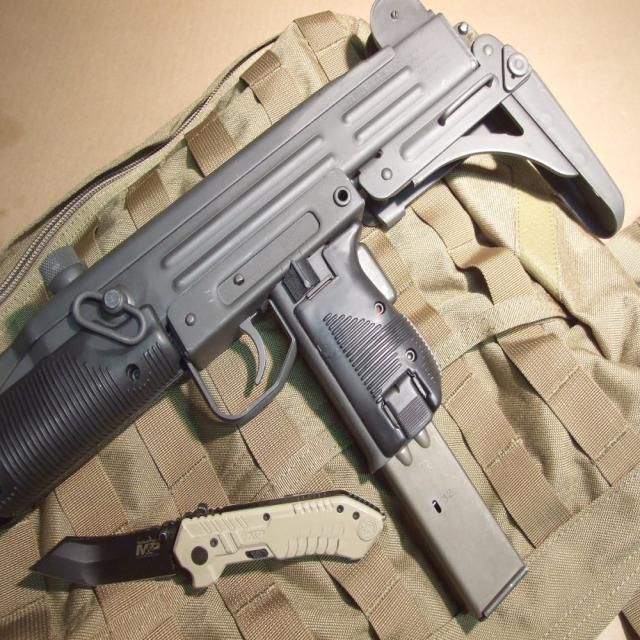Knife: (30, 490, 385, 597)
SMG: (0, 0, 627, 621)
